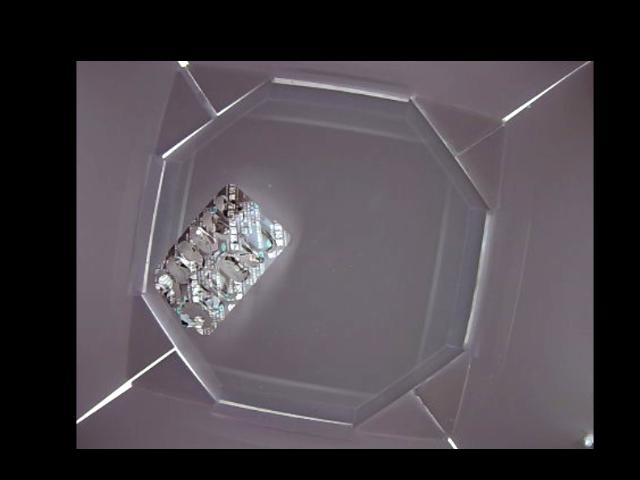Medicine: (152, 178, 292, 334)
